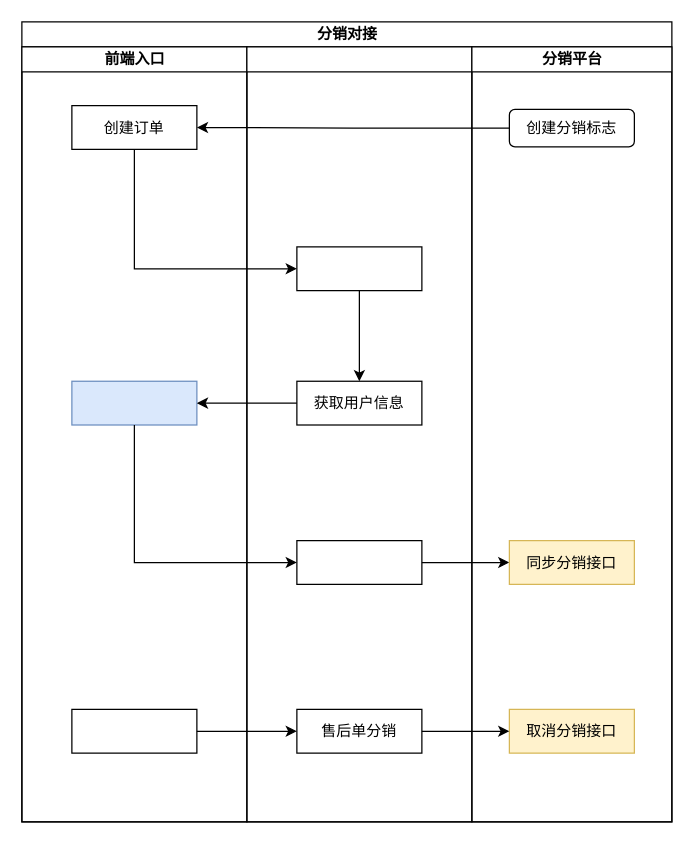
Image size: 694x844. Some labels were removed from this diagram. The box of each missing label's shape, as (x1, y1, x2, y2) in pixels:
Walmart: (246, 46, 472, 822)
分销逻辑判断: (296, 539, 422, 584)
售后单创建: (71, 708, 197, 753)
接受订单: (296, 246, 422, 291)
获取用户信息接口: (71, 380, 197, 425)
